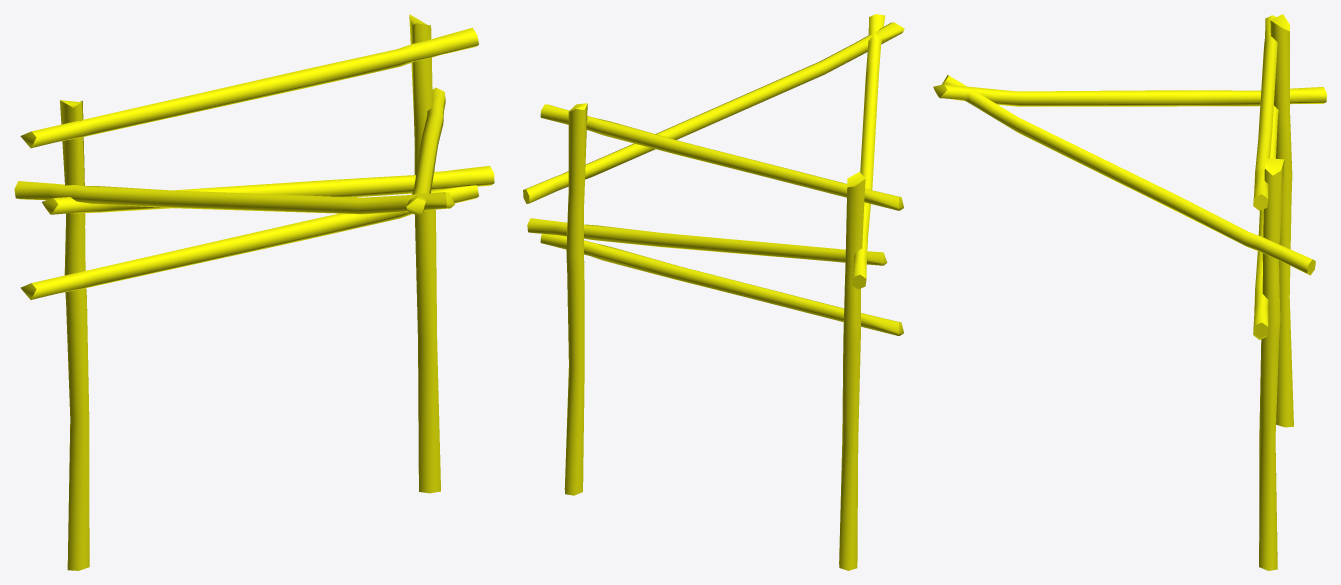
File: camp_manticore_obj00.glb
3 renders of one model, left to right at view 1: azimuth 30°, elevation 25°; view 2: azimuth 150°, elevation 25°; view 3: azimuth 270°, elevation 25°, orthographic. The views are drawn at different scales.
Parts seen in each view (by area): view 1: camp_manticore_obj00; view 2: camp_manticore_obj00; view 3: camp_manticore_obj00.
Part boxes in pixels (x1,y1,x2,y2): camp_manticore_obj00: [14, 14, 494, 570]; camp_manticore_obj00: [523, 14, 904, 570]; camp_manticore_obj00: [933, 14, 1326, 570].
Bounding box in the file's own units: 10.99 × 11.05 × 9.62.
1 material, 1 textured.
